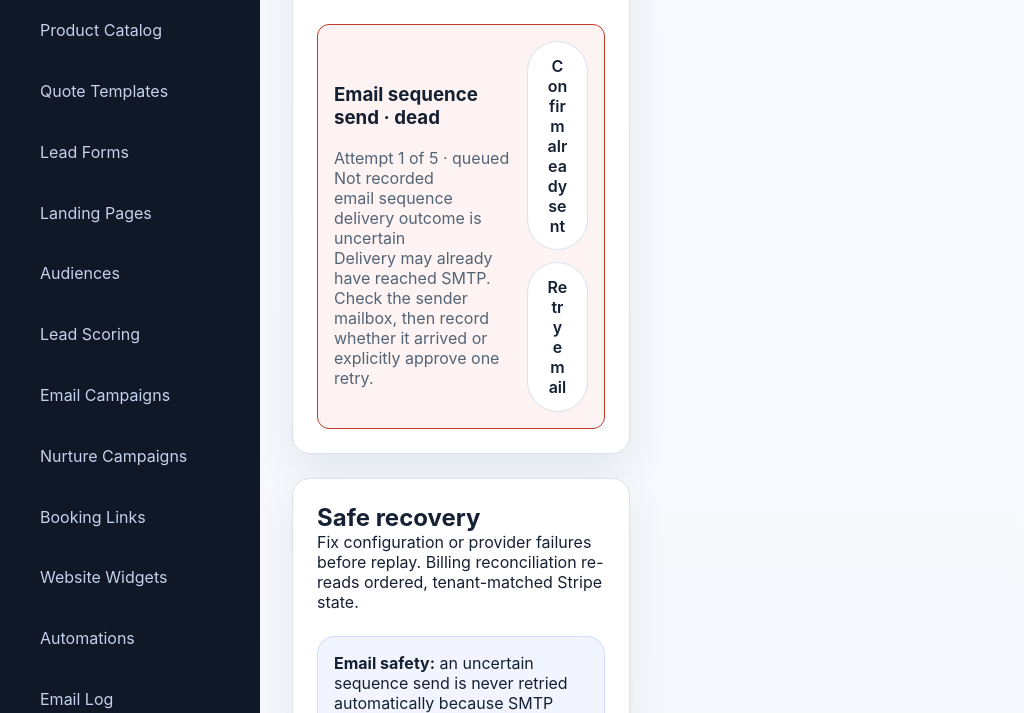
Scenario: settings operations route › requires an explicit decision when an SMTP delivery is uncertain
(page scrolled)
Expected: the text "Delivery may already have reached SMTP" is shown, [334,248,500,388]
Expected: the button "Confirm already sent" is enabled, [527,41,588,250]
Click the button "Retry email" at (557, 337), box [527,262,588,412]
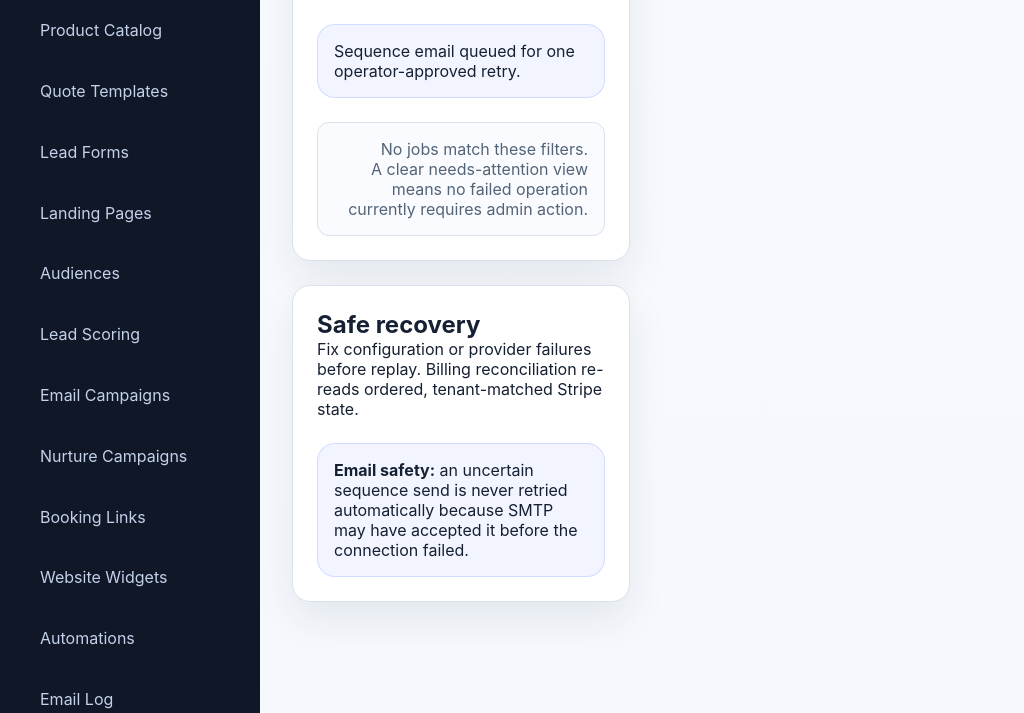
Expected: the text "Sequence email queued for one operator-approved retry." is shown, [317,24,605,98]
